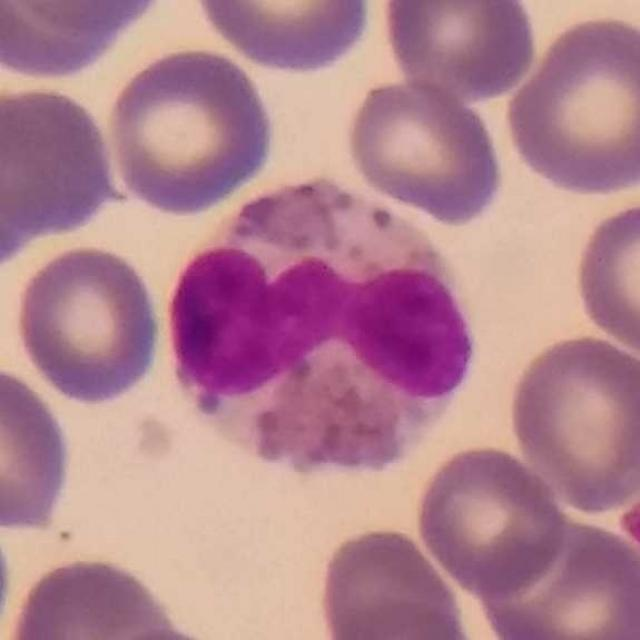eosino: (164, 172, 488, 485)
